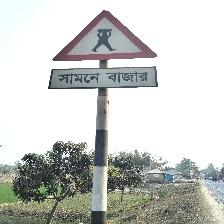Market-in-front: (49, 9, 159, 91)
